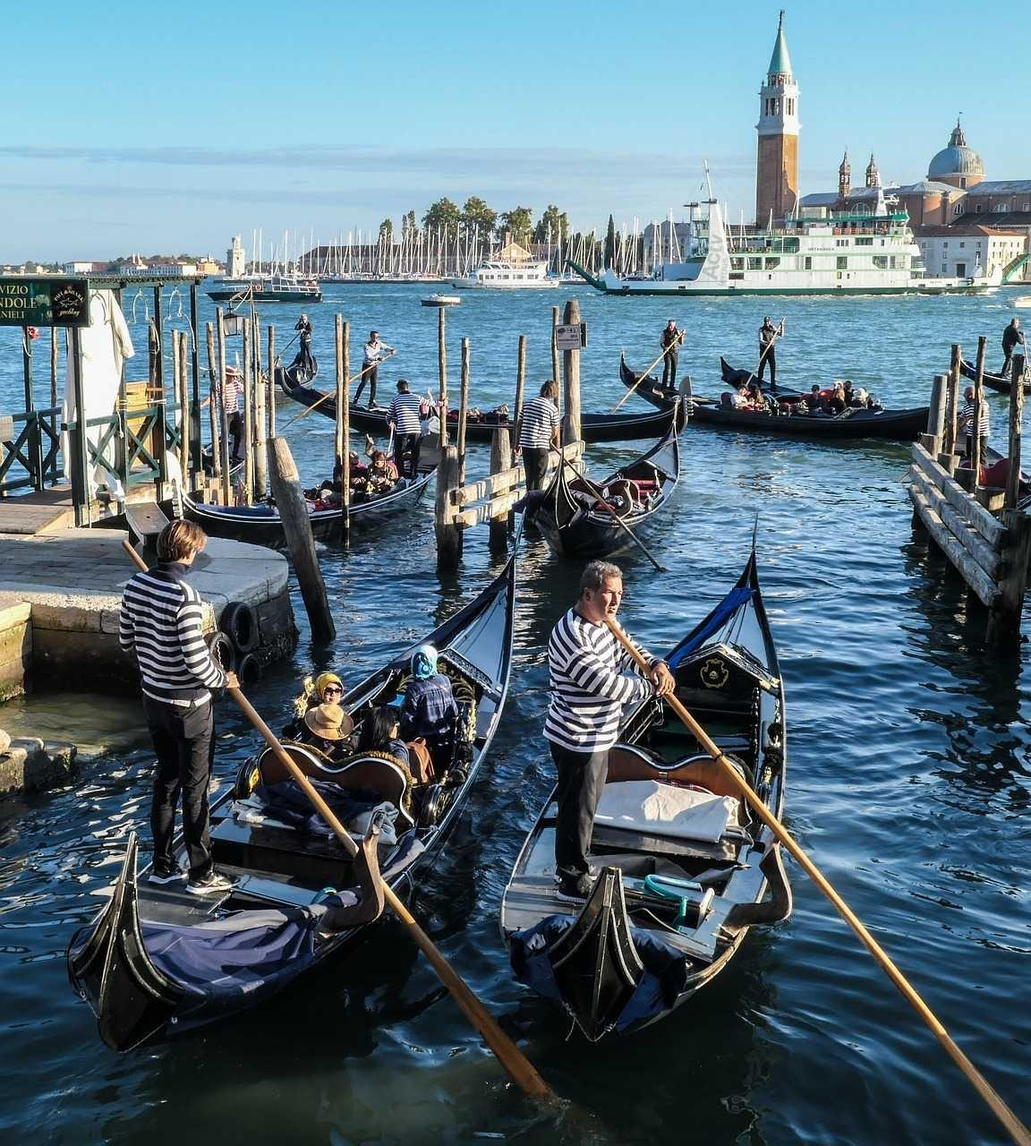kayak: (66, 560, 516, 1056), (503, 520, 790, 1049), (599, 185, 928, 295), (902, 368, 1031, 632), (618, 350, 931, 441), (535, 397, 688, 560), (183, 466, 435, 545), (305, 474, 430, 542), (577, 393, 674, 440), (456, 261, 561, 291), (218, 278, 322, 303), (420, 294, 462, 306)
